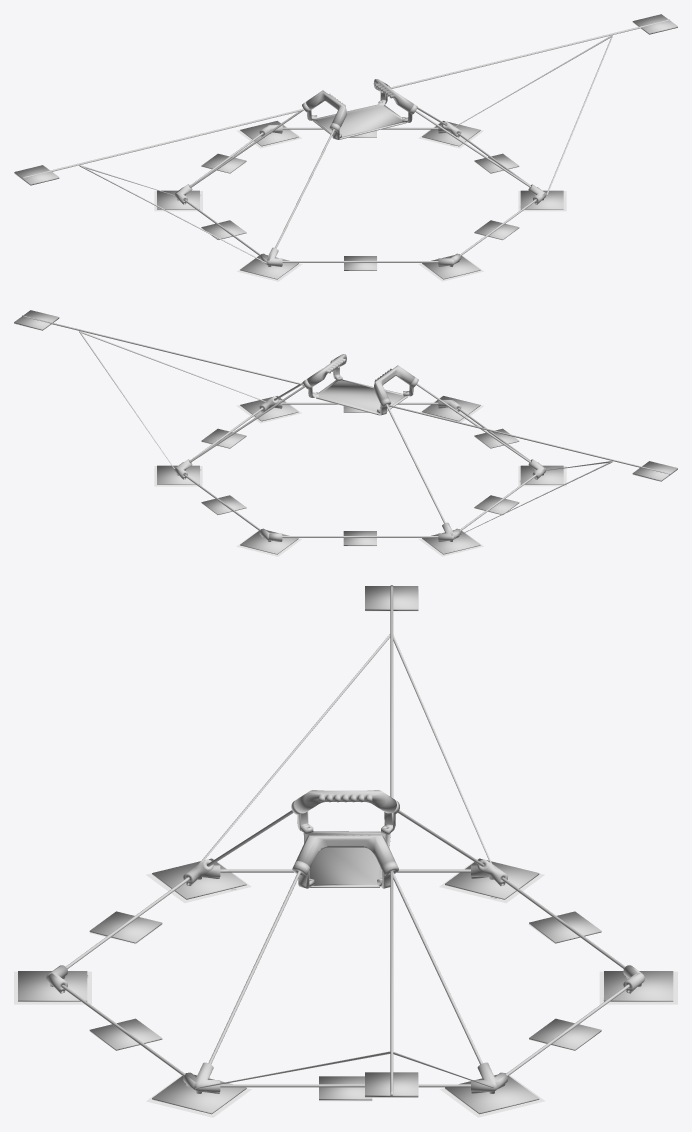
Rendered from simple_dp_with_tags.dae.
3 renders of one model, top to bottom at view 1: azimuth 30°, elevation 25°; view 2: azimuth 150°, elevation 25°; view 3: azimuth 270°, elevation 25°, orthographic. The views are drawn at different scales.
Parts seen in each view (by area): view 1: assembly; view 2: assembly; view 3: assembly.
Part boxes in pixels (<box>): assembly: <box>14,14,677,279</box>; assembly: <box>14,310,677,554</box>; assembly: <box>18,585,673,1114</box>.
Size of the model in its own units: 2.26 by 1.25 by 0.364.
14 materials, 14 textured.
